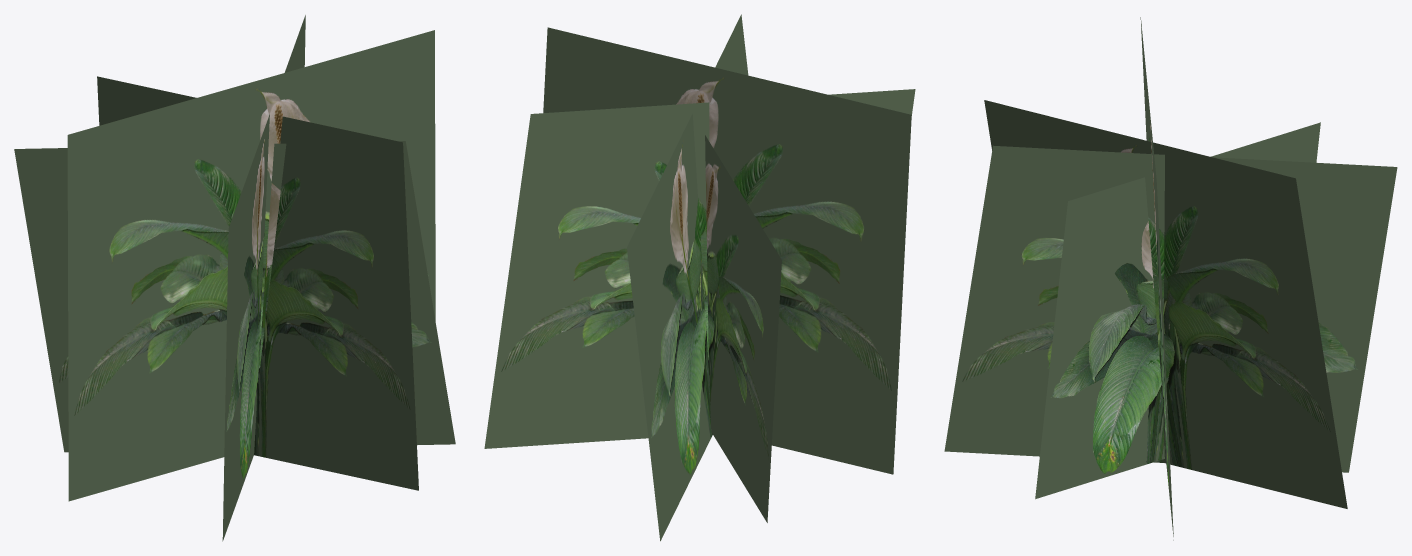
Rendered from gs_flower40.glb.
3 views of the same model, side by side, from view 1: azimuth 30°, elevation 25°; view 2: azimuth 150°, elevation 25°; view 3: azimuth 270°, elevation 25° (orthographic). The views are drawn at different scales.
Parts seen in each view (by area): view 1: Plane01; view 2: Plane01; view 3: Plane01.
Boxes of the visible parts, left/top/right/bottom form: Plane01: left=14, top=15, right=455, bottom=541; Plane01: left=484, top=14, right=915, bottom=541; Plane01: left=944, top=17, right=1397, bottom=540.
Size of the model in its own units: 92.64 by 95.2 by 99.34.
1 material, 1 textured.
